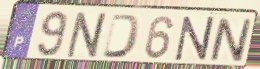6: (142, 15, 176, 61)
9: (35, 9, 69, 59)
D: (100, 13, 143, 60)
N: (63, 11, 112, 60), (208, 16, 253, 64), (174, 15, 216, 63)
